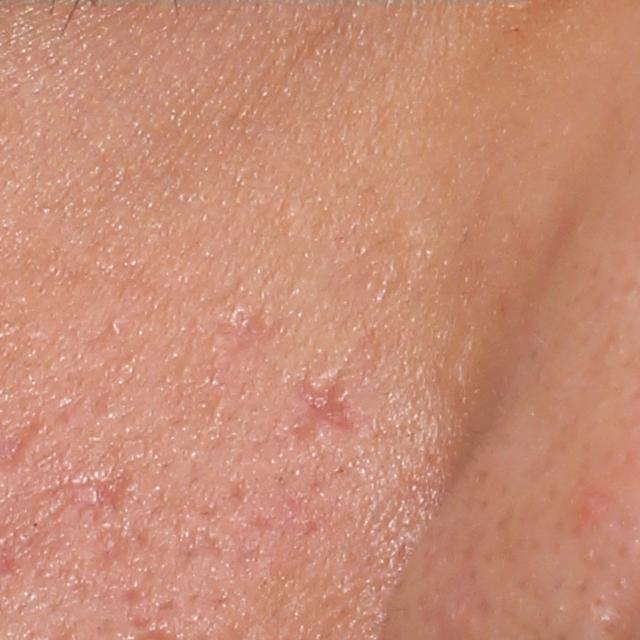atrophic_scar: (280, 374, 352, 445), (210, 310, 288, 366), (58, 470, 135, 512)
